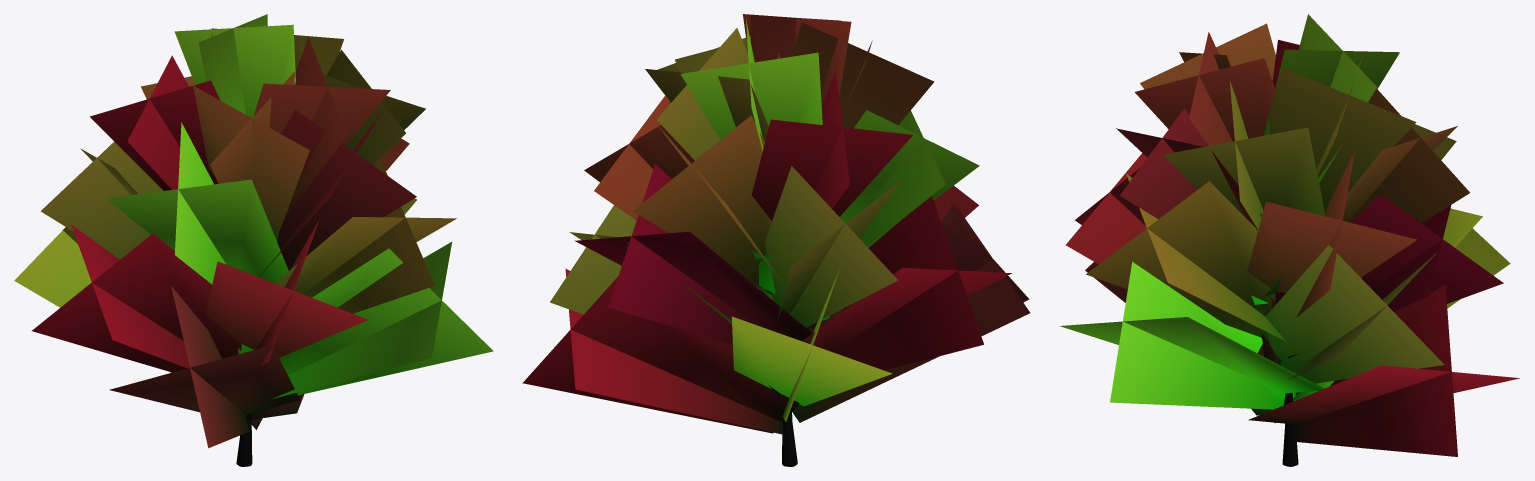
File: Bush_8_2.fbx
3 views of the same model, side by side, from view 1: azimuth 30°, elevation 25°; view 2: azimuth 150°, elevation 25°; view 3: azimuth 270°, elevation 25° (orthographic).
Visible parts, largest first — view 1: _2; view 2: _2; view 3: _2.
Part boxes in pixels (x1,y1,x2,y2): _2: [14, 14, 493, 466]; _2: [522, 14, 1030, 466]; _2: [1060, 14, 1519, 466].
Size of the model in its own units: 642 by 660 by 632.
